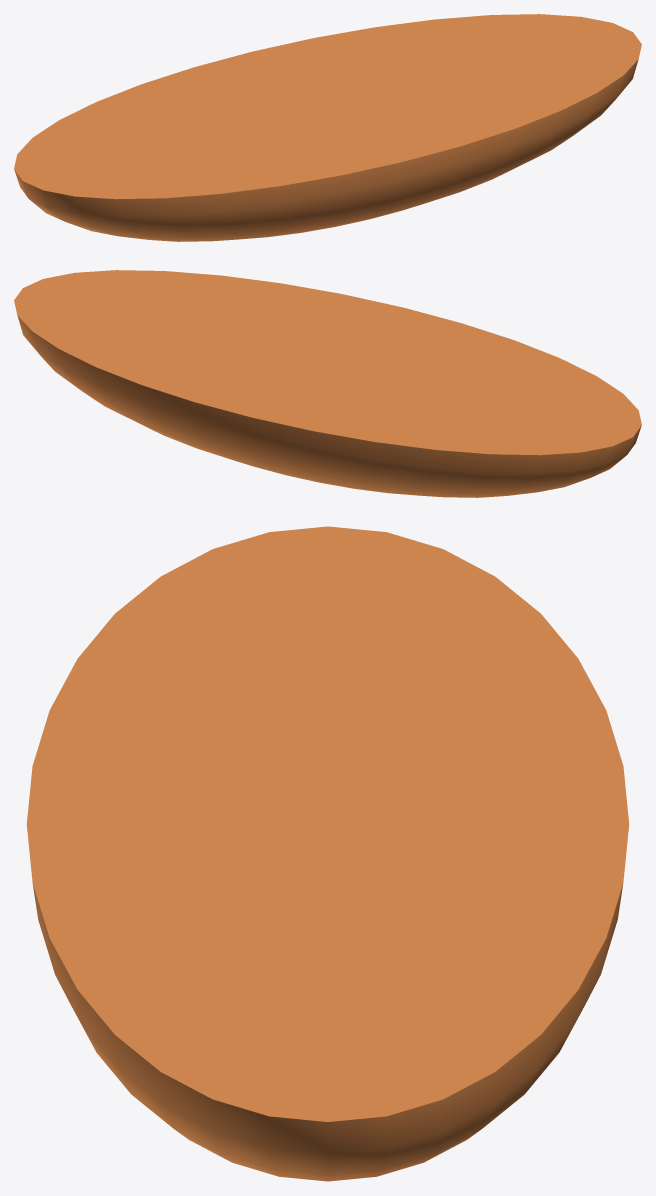
File: bagietka-przekrojona.gltf
3 renders of one model, top to bottom at view 1: azimuth 30°, elevation 25°; view 2: azimuth 150°, elevation 25°; view 3: azimuth 270°, elevation 25°, orthographic. The views are drawn at different scales.
Parts seen in each view (by area): view 1: Sphere; view 2: Sphere; view 3: Sphere.
Boxes of the visible parts, x1,y1,x2,y2 form: Sphere: (14, 14, 641, 241); Sphere: (14, 270, 641, 497); Sphere: (26, 526, 629, 1181).
Bounding box in the file's own units: 0.2883 × 0.0445 × 0.1233.
1 material, 1 textured.
